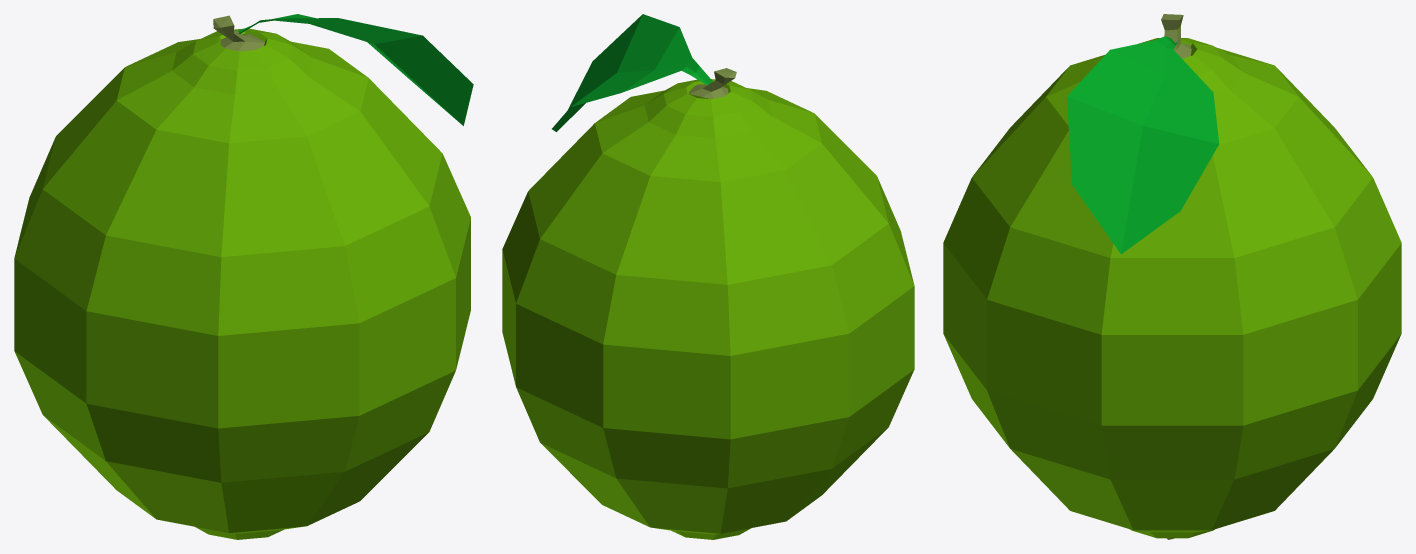
The model's file is lime.fbx.
The picture shows the model from 3 angles, left to right: view 1: azimuth 30°, elevation 25°; view 2: azimuth 150°, elevation 25°; view 3: azimuth 270°, elevation 25°; orthographic projection. The views are drawn at different scales.
Visible parts, largest first — view 1: lime; view 2: lime; view 3: lime.
Boxes of the visible parts, <box> form: lime: <box>14,14,473,539</box>; lime: <box>502,14,914,539</box>; lime: <box>943,14,1401,539</box>.
Bounding box in the file's own units: 167 × 216 × 175.
